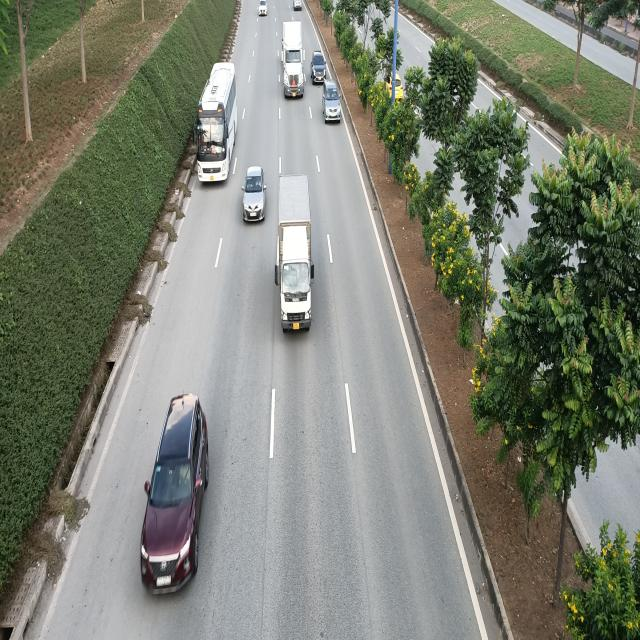car: (141, 394, 208, 591), (242, 165, 266, 222), (322, 83, 342, 123), (311, 52, 327, 85)
coach: (192, 65, 237, 184)
container: (280, 24, 304, 100)
truck: (273, 171, 314, 330)
